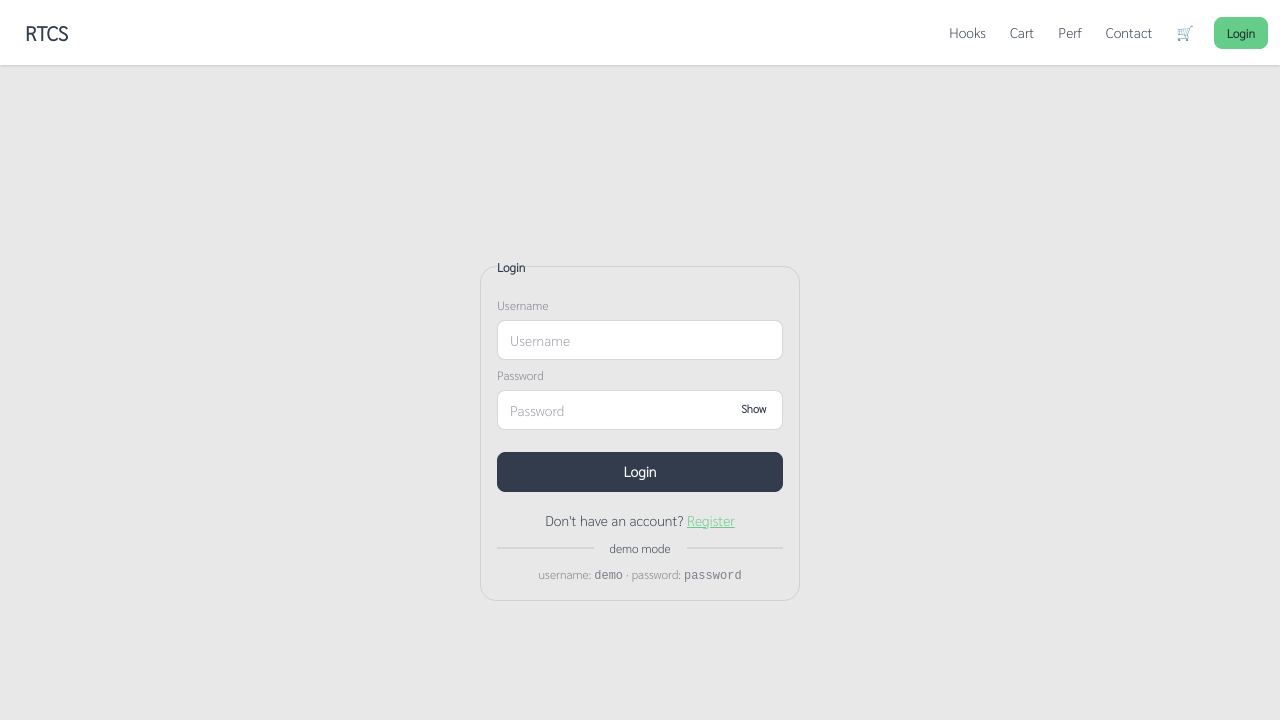
Test: LoginPage › shows field error for short password
Step 1. Type "demo" into the field labelled "Username" → (640, 340), box [497,320,783,360]
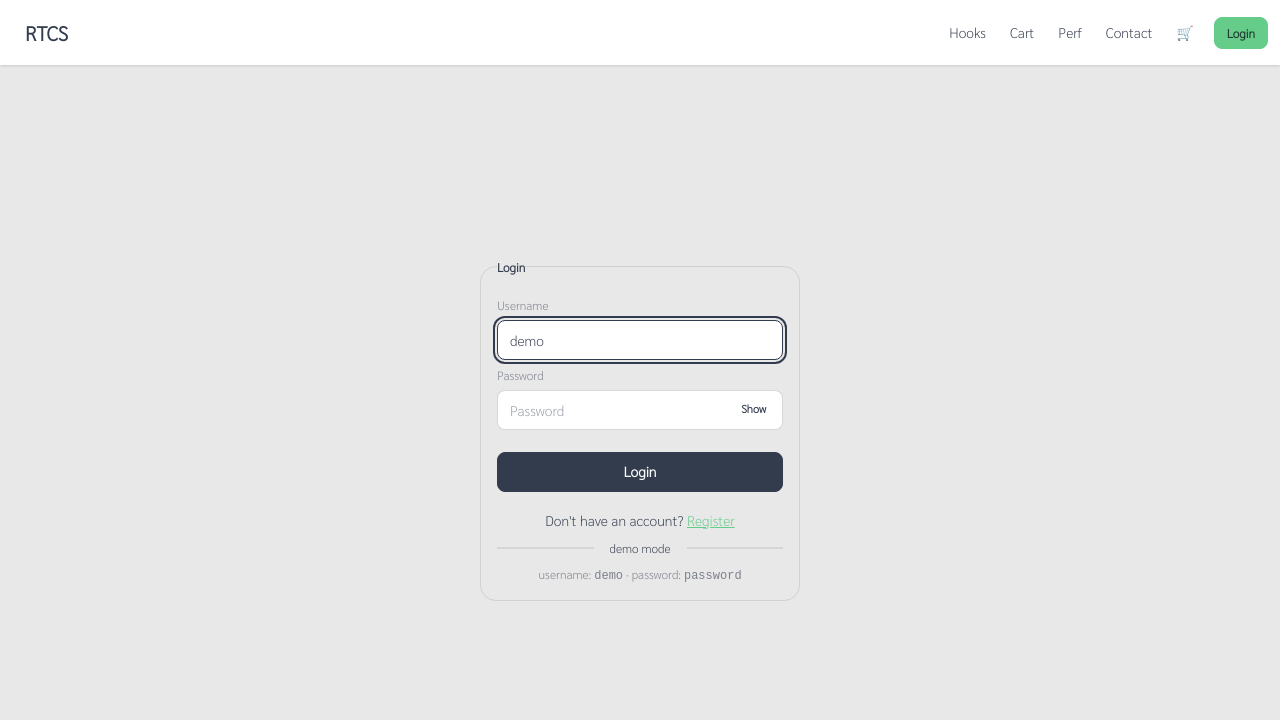
Step 2. Type "short" into the password field labelled "Password" → (640, 410), box [497,390,783,430]
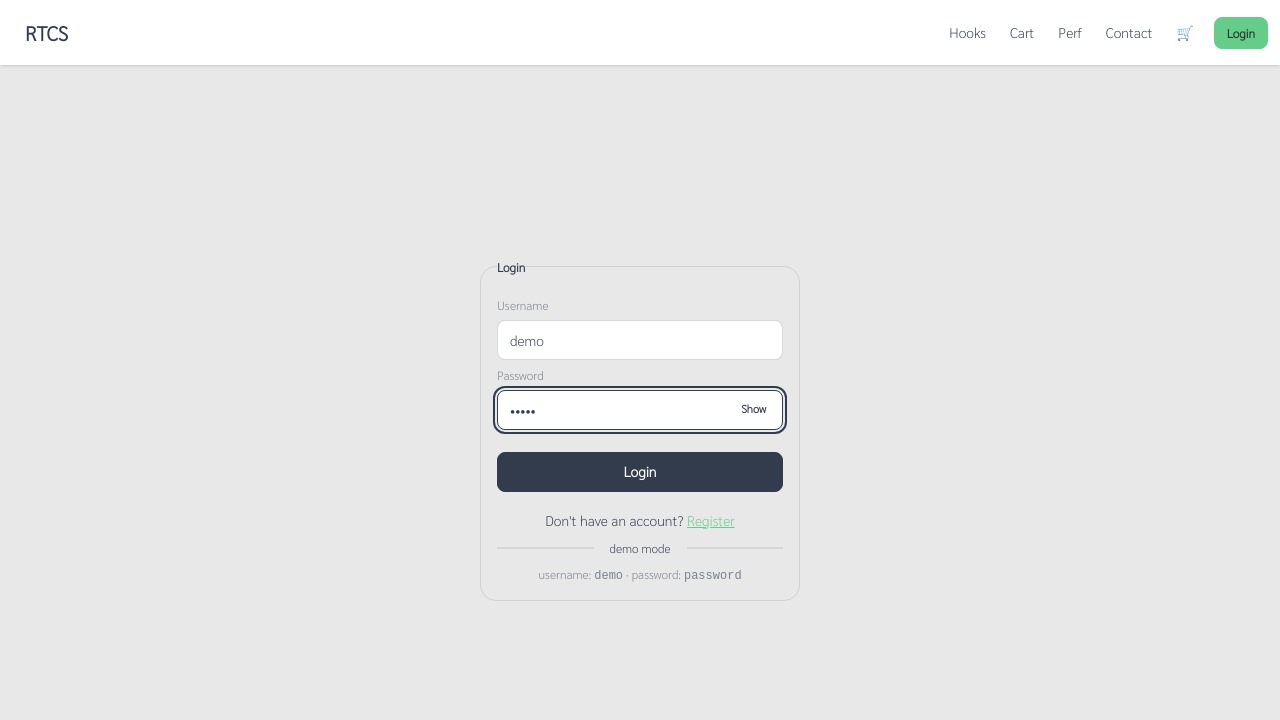
Step 3. Click the button "Login" → (640, 472), box [497,452,783,492]
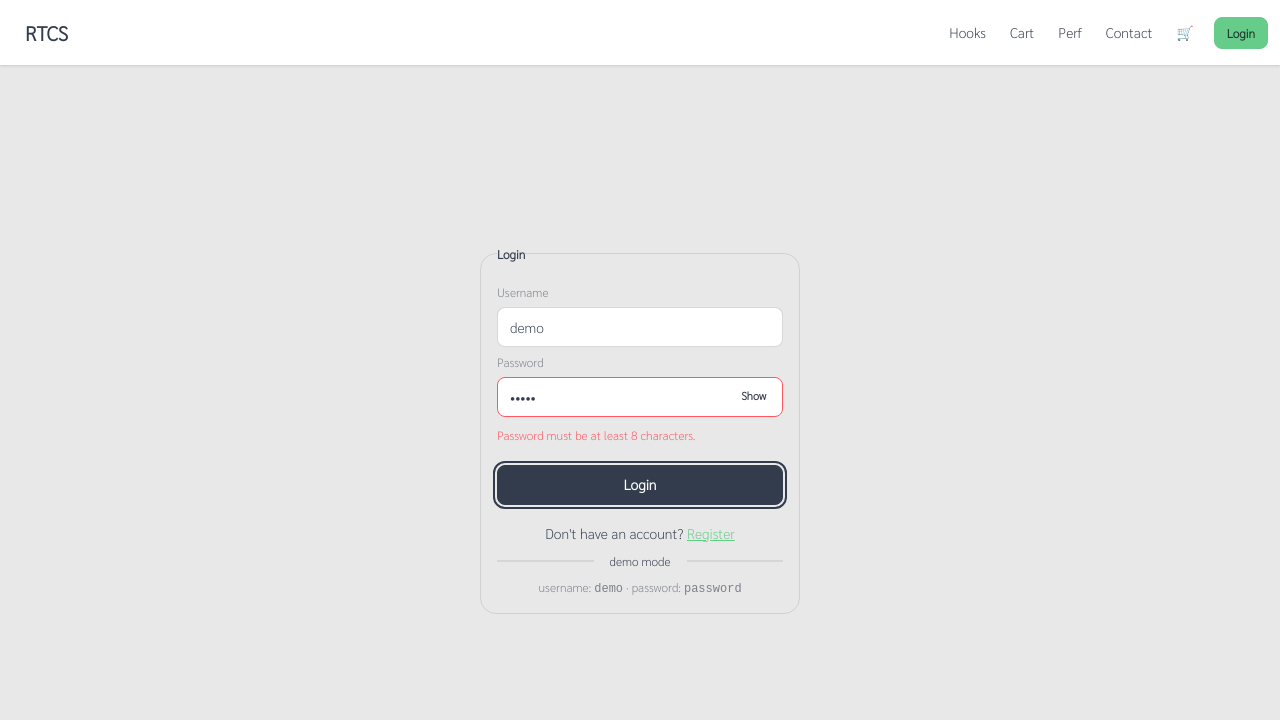
Check: the text "Password must be at least 8 characters." is shown, box [497,426,695,442]
